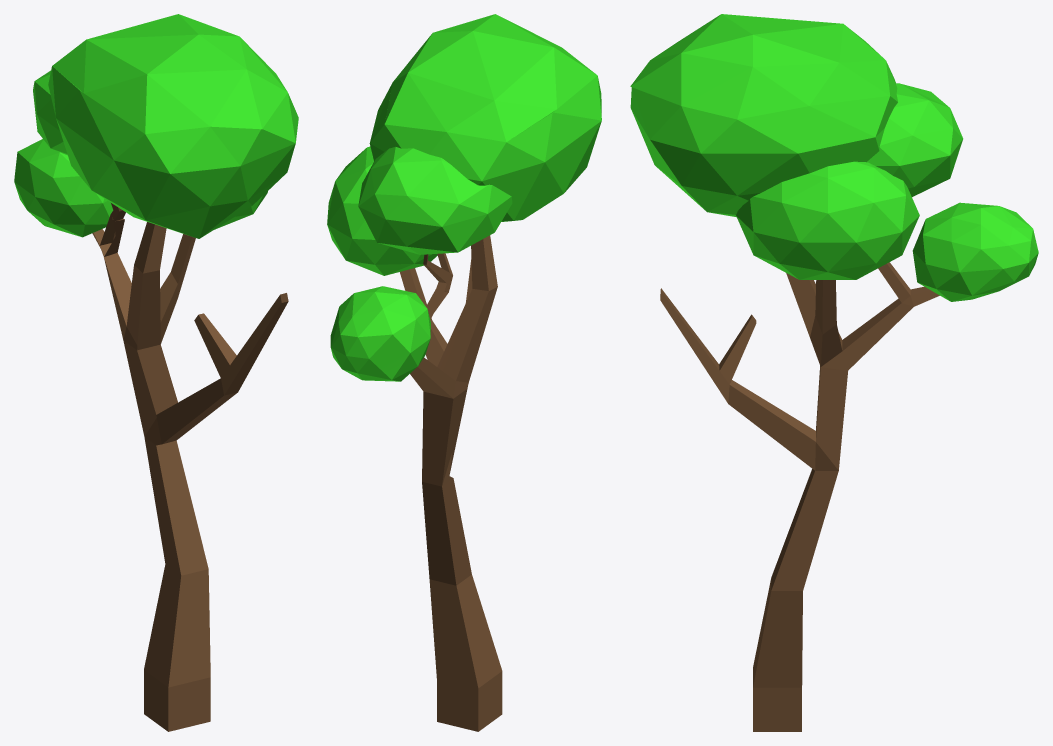
Rendered from T_tree2.fbx.
3 renders of one model, left to right at view 1: azimuth 30°, elevation 25°; view 2: azimuth 150°, elevation 25°; view 3: azimuth 270°, elevation 25°, orthographic. The views are drawn at different scales.
Visible parts, largest first — view 1: Icosphere.002; view 2: Icosphere.002; view 3: Icosphere.002.
Boxes of the visible parts, box(x1,y1,x2,y2) form: Icosphere.002: box(14, 14, 298, 731); Icosphere.002: box(327, 14, 601, 731); Icosphere.002: box(630, 14, 1038, 731).
Size of the model in its own units: 346 by 1122 by 601.
